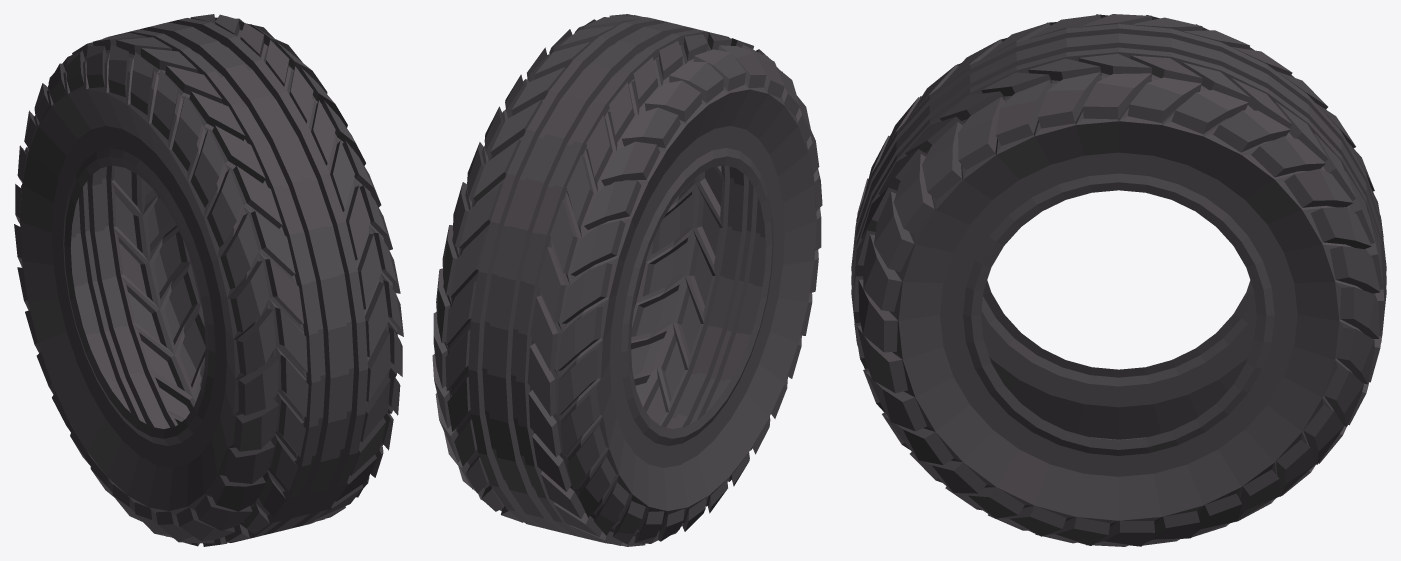
The model's file is Tyre.fbx.
The picture shows the model from 3 angles, left to right: view 1: azimuth 30°, elevation 25°; view 2: azimuth 150°, elevation 25°; view 3: azimuth 270°, elevation 25°; orthographic projection. The views are drawn at different scales.
Visible parts, largest first — view 1: Circle; view 2: Circle; view 3: Circle.
Part boxes in pixels (x1,y1,x2,y2): Circle: [14, 14, 403, 546]; Circle: [432, 14, 822, 546]; Circle: [851, 14, 1386, 546].
Bounding box in the file's own units: 74.45 × 208 × 208.
